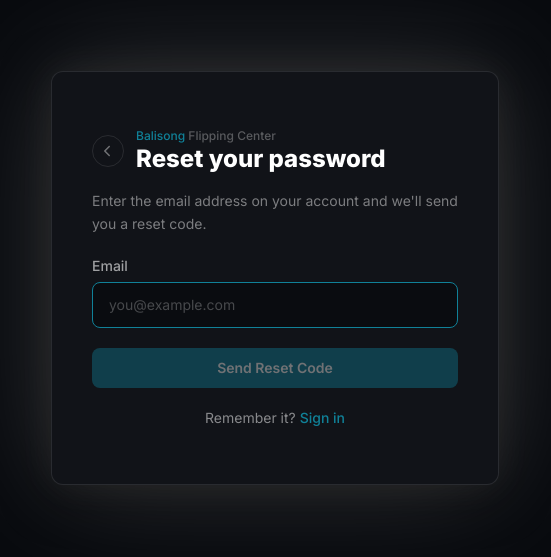
Test: ForgotPasswordPage — email step › shows a generic message for any other failure
In the field with placeholder "you@example.com": (275, 305) [92,282,458,328], type "user@example.com"
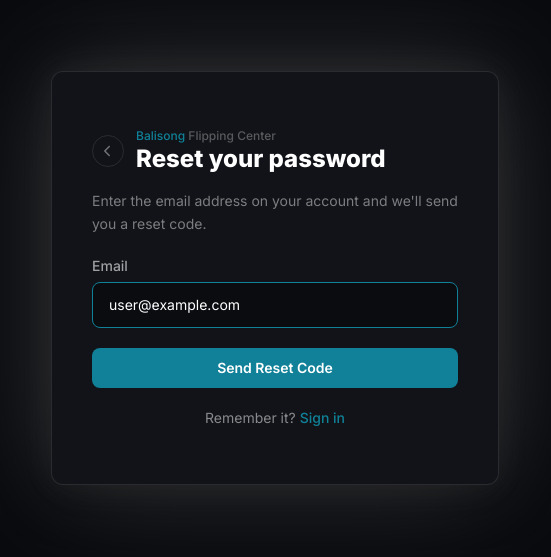
Click the button "Send Reset Code": (275, 368) [92,348,458,388]
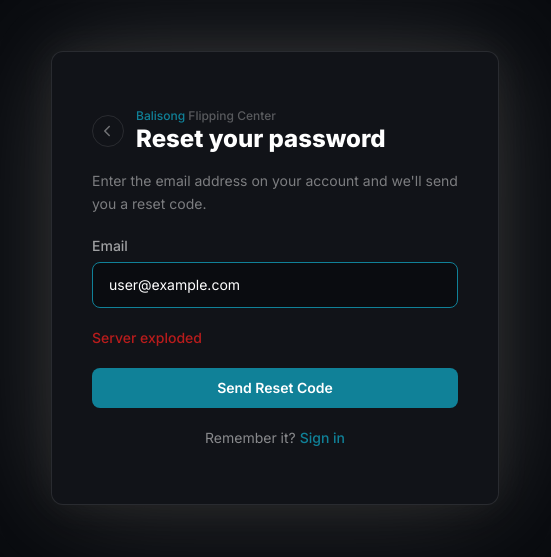
Now the text "Server exploded" is shown, box [92,329,202,346]
